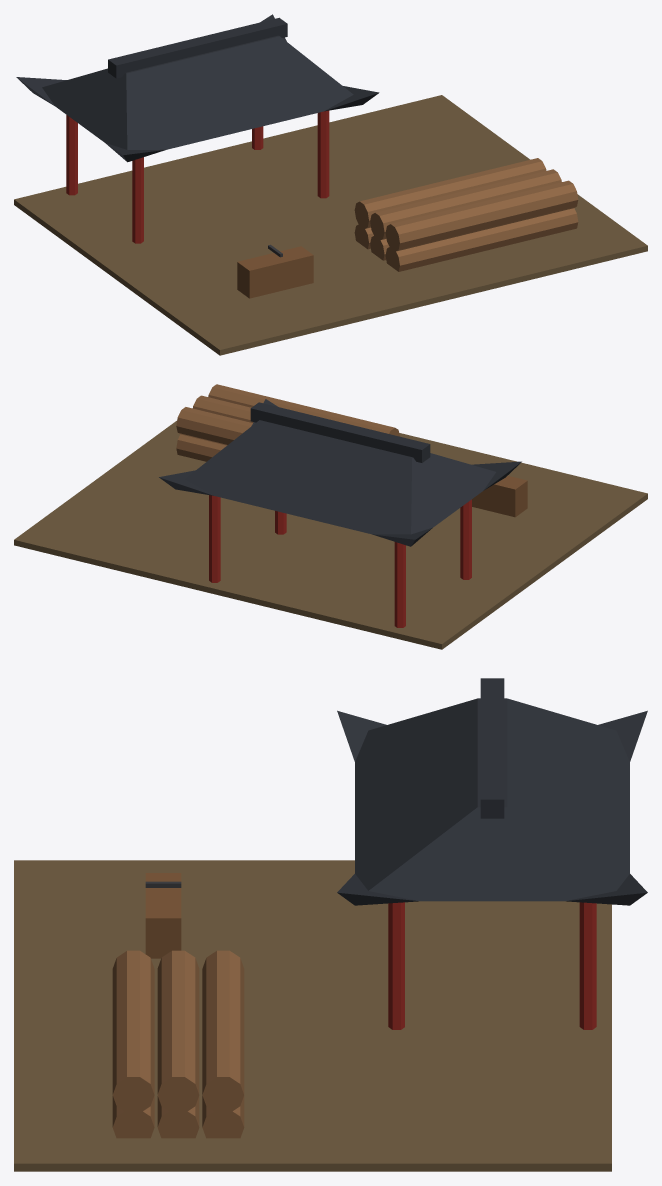
Rendered from lumber.glb.
The picture shows the model from 3 angles, top to bottom: view 1: azimuth 30°, elevation 25°; view 2: azimuth 150°, elevation 25°; view 3: azimuth 270°, elevation 25°; orthographic projection. The views are drawn at different scales.
Visible parts, largest first — view 1: Lumber; view 2: Lumber; view 3: Lumber.
Boxes of the visible parts, x1,y1,x2,y2 form: Lumber: (14,14,647,355); Lumber: (14,384,647,649); Lumber: (14,678,647,1171).
Bounding box in the file's own units: 12 × 4.26 × 10.6.
